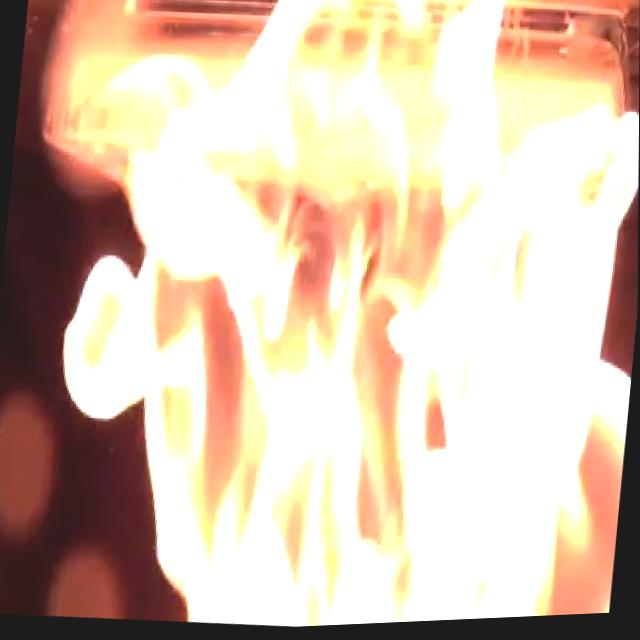helmet: (25, 0, 640, 639)
